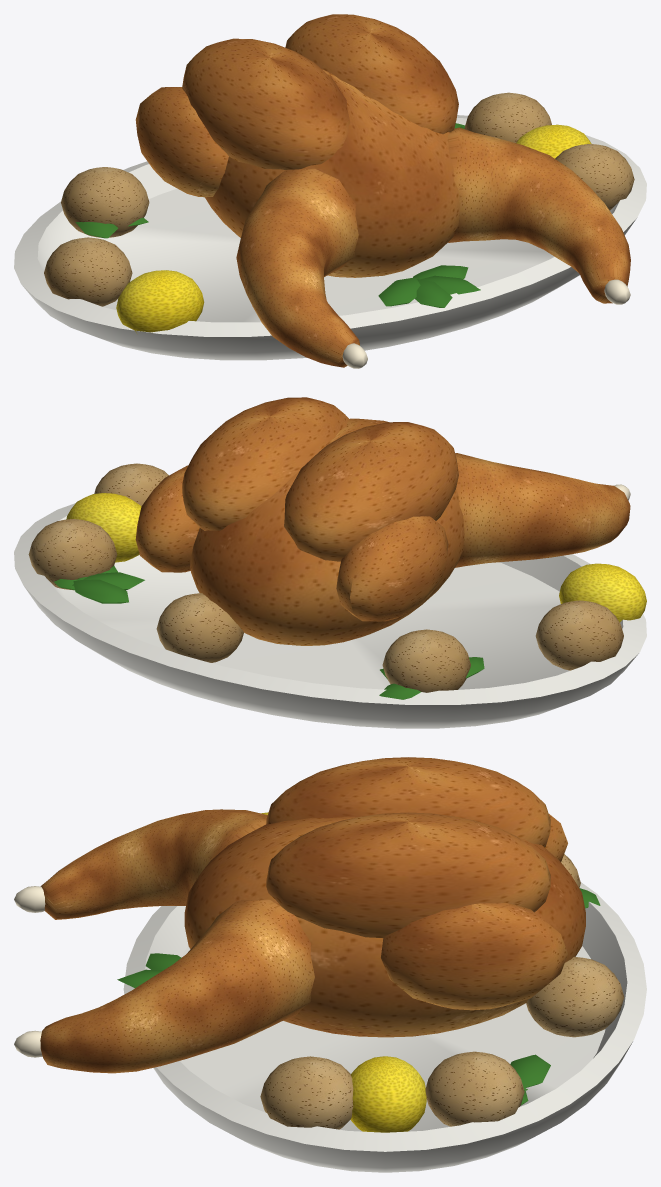
File: meal_roast_chicken.glb
3 renders of one model, top to bottom at view 1: azimuth 30°, elevation 25°; view 2: azimuth 150°, elevation 25°; view 3: azimuth 270°, elevation 25°, orthographic. The views are drawn at different scales.
Parts seen in each view (by area): view 1: meal_roast_chicken; view 2: meal_roast_chicken; view 3: meal_roast_chicken.
Boxes of the visible parts, x1,y1,x2,y2 form: meal_roast_chicken: [14, 14, 646, 368]; meal_roast_chicken: [14, 397, 646, 728]; meal_roast_chicken: [14, 757, 646, 1172].
Bounding box in the file's own units: 0.4 × 0.138 × 0.329.
6 materials, 3 textured.
